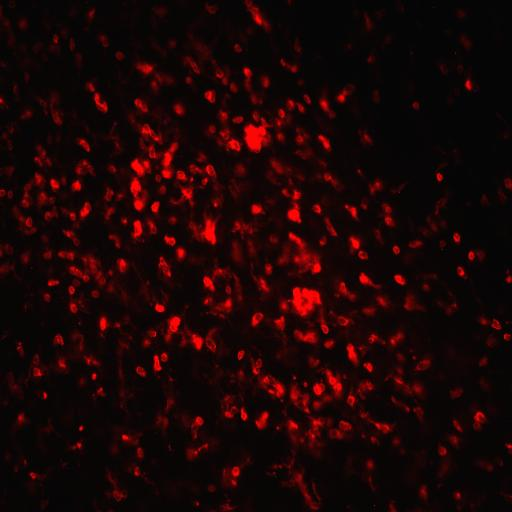microglia: (291, 286, 322, 316), (36, 93, 63, 126), (245, 1, 265, 28), (154, 412, 178, 432), (403, 292, 426, 312), (247, 125, 264, 152), (434, 192, 452, 214), (141, 122, 160, 142), (186, 55, 204, 76), (203, 220, 217, 244), (93, 92, 108, 113), (76, 158, 93, 176), (274, 156, 290, 174), (135, 61, 154, 76), (115, 338, 129, 358), (10, 206, 24, 225), (320, 128, 332, 150), (346, 344, 359, 364), (499, 486, 512, 506), (158, 257, 170, 278), (215, 298, 233, 312), (290, 188, 305, 204), (367, 473, 379, 493), (162, 396, 178, 411), (139, 282, 151, 302), (374, 225, 386, 245), (184, 446, 201, 460), (120, 286, 131, 307), (220, 392, 239, 404), (368, 180, 383, 195), (115, 387, 130, 402), (131, 159, 145, 175), (86, 255, 100, 271), (478, 460, 498, 471), (324, 218, 336, 236), (304, 328, 316, 346), (43, 421, 57, 436), (168, 316, 181, 332), (256, 411, 268, 428), (115, 370, 132, 382), (123, 311, 135, 328), (363, 12, 373, 32), (392, 184, 414, 193), (224, 406, 238, 420), (226, 139, 241, 152), (459, 35, 472, 50), (338, 282, 351, 297), (130, 178, 142, 194), (318, 319, 330, 335), (326, 367, 338, 383), (258, 278, 270, 294), (447, 436, 463, 448), (234, 166, 250, 178), (134, 98, 148, 111), (289, 232, 303, 245), (250, 358, 262, 373), (21, 194, 33, 209), (380, 203, 395, 215), (393, 0, 405, 15), (368, 333, 384, 344), (374, 422, 391, 432), (38, 190, 48, 207), (204, 89, 216, 103), (251, 312, 263, 326), (288, 208, 300, 222), (338, 313, 350, 327), (307, 357, 321, 369), (68, 266, 82, 278), (440, 461, 452, 475), (152, 8, 170, 17), (80, 202, 90, 218), (415, 360, 431, 370), (428, 216, 438, 232), (323, 172, 336, 184), (346, 206, 358, 219), (78, 138, 90, 151), (104, 208, 116, 221), (62, 227, 75, 239), (34, 144, 46, 157), (86, 79, 98, 92), (203, 276, 214, 290), (60, 250, 74, 261), (205, 338, 216, 352), (274, 316, 285, 330), (476, 314, 487, 328), (294, 36, 302, 55), (19, 228, 38, 236), (96, 272, 106, 287), (133, 220, 142, 236), (206, 2, 218, 14), (149, 144, 158, 160), (361, 199, 372, 212), (387, 501, 400, 512), (22, 108, 33, 121), (4, 165, 17, 176), (162, 152, 172, 166), (418, 485, 428, 499), (290, 386, 300, 400), (75, 56, 85, 70), (68, 4, 78, 18), (20, 17, 28, 34), (73, 343, 88, 352), (394, 274, 406, 285), (359, 274, 370, 286), (313, 384, 324, 396), (474, 411, 485, 423), (339, 420, 351, 431), (202, 295, 213, 307), (214, 265, 226, 276), (192, 336, 202, 349), (480, 194, 490, 207), (149, 222, 159, 235), (384, 33, 394, 46), (320, 100, 329, 114), (104, 188, 113, 202), (114, 319, 123, 333), (243, 66, 253, 78), (206, 164, 216, 176), (349, 236, 359, 248), (72, 180, 82, 192), (312, 262, 322, 274), (439, 62, 449, 74), (50, 178, 60, 190), (182, 188, 192, 200), (408, 240, 423, 248), (450, 389, 462, 399), (112, 490, 124, 500), (43, 248, 53, 260), (232, 220, 242, 232), (261, 374, 271, 386), (20, 253, 32, 263), (396, 352, 406, 364), (486, 338, 498, 348), (71, 329, 83, 339), (85, 10, 100, 18), (0, 19, 12, 29), (61, 172, 68, 189), (362, 131, 371, 144), (118, 259, 127, 272), (356, 388, 365, 401), (230, 80, 239, 93), (240, 406, 248, 420), (144, 160, 152, 174), (421, 273, 437, 280), (109, 161, 117, 175), (368, 53, 376, 67), (220, 130, 230, 141), (252, 203, 262, 214), (164, 236, 175, 246), (176, 171, 187, 181), (54, 334, 64, 345), (167, 142, 178, 152), (100, 35, 109, 47), (491, 318, 500, 330), (134, 199, 143, 211), (453, 420, 462, 432), (289, 417, 298, 429), (24, 180, 33, 192), (290, 63, 299, 75), (77, 377, 86, 389), (233, 117, 248, 124), (505, 439, 512, 454), (16, 343, 24, 356), (441, 217, 449, 230), (154, 355, 160, 372), (136, 366, 146, 376), (155, 303, 165, 313), (478, 357, 488, 367), (162, 169, 172, 179), (330, 429, 340, 439), (169, 216, 179, 226), (456, 8, 466, 18), (151, 201, 160, 212), (168, 40, 179, 49), (221, 74, 228, 88), (372, 90, 380, 102), (276, 383, 284, 395), (366, 380, 374, 392), (247, 224, 255, 236), (278, 56, 286, 68), (445, 304, 453, 316), (84, 354, 92, 366), (0, 58, 8, 70), (100, 317, 107, 330), (496, 456, 503, 469), (363, 362, 372, 372), (37, 390, 47, 399), (437, 445, 446, 455), (71, 237, 81, 246), (358, 250, 367, 260), (0, 264, 9, 274), (8, 0, 17, 10), (136, 447, 144, 458), (377, 296, 385, 307), (147, 330, 158, 338), (6, 243, 14, 254), (504, 270, 511, 282), (210, 123, 217, 135), (264, 471, 276, 478), (312, 204, 321, 213), (384, 217, 393, 226), (338, 94, 346, 104), (116, 51, 124, 61), (324, 340, 334, 348), (176, 248, 184, 258), (347, 395, 355, 405), (25, 217, 33, 227), (334, 382, 342, 392), (395, 378, 405, 386), (142, 339, 152, 347), (68, 213, 78, 221), (234, 43, 242, 53), (109, 233, 119, 241), (108, 266, 114, 279), (453, 85, 460, 96), (262, 117, 268, 129), (280, 108, 286, 120), (305, 92, 311, 104), (196, 416, 204, 425), (69, 38, 75, 50), (207, 484, 216, 492), (308, 429, 316, 438), (116, 193, 125, 201), (30, 471, 38, 480), (391, 393, 397, 405), (160, 184, 166, 196), (473, 422, 481, 431), (422, 284, 431, 292), (92, 358, 100, 367), (41, 501, 49, 510), (35, 158, 44, 166), (42, 54, 50, 63), (453, 232, 460, 242), (237, 350, 244, 360), (465, 80, 472, 90), (457, 266, 464, 276), (33, 354, 40, 364), (70, 303, 77, 313), (18, 412, 25, 422), (161, 352, 168, 362), (232, 466, 239, 476), (202, 175, 209, 185), (36, 174, 43, 184), (185, 75, 192, 85), (48, 280, 59, 286), (312, 420, 323, 426), (238, 369, 244, 380), (466, 198, 472, 209), (446, 97, 452, 108), (272, 464, 283, 470), (216, 70, 224, 78), (33, 368, 41, 376), (392, 246, 400, 254), (58, 360, 66, 368), (414, 385, 422, 393), (393, 438, 401, 446), (224, 286, 232, 294), (268, 388, 276, 396), (24, 73, 32, 81), (60, 30, 68, 38), (5, 142, 13, 150), (252, 114, 259, 123), (265, 264, 272, 273), (467, 251, 474, 260), (97, 387, 104, 396), (296, 331, 303, 340), (225, 504, 234, 511), (83, 274, 90, 283), (42, 234, 49, 243), (155, 174, 162, 183), (507, 178, 512, 190), (134, 466, 140, 476), (115, 239, 121, 249), (452, 300, 458, 310), (92, 290, 99, 298), (44, 294, 51, 302), (195, 167, 202, 175), (213, 200, 220, 208), (313, 400, 320, 408), (231, 477, 238, 485), (45, 214, 53, 221), (456, 62, 463, 70), (194, 499, 201, 507), (264, 79, 270, 88), (397, 332, 402, 342), (303, 396, 308, 406), (412, 102, 419, 109), (299, 438, 306, 445), (221, 111, 227, 119), (176, 105, 182, 113), (436, 173, 442, 181), (69, 286, 75, 294), (0, 189, 6, 197), (439, 240, 445, 248), (503, 334, 511, 340), (454, 491, 460, 499), (390, 337, 396, 345), (413, 408, 421, 414), (305, 406, 311, 414), (46, 158, 52, 166), (14, 85, 20, 93), (282, 480, 288, 488), (53, 34, 58, 43), (59, 462, 68, 467), (304, 493, 310, 500), (2, 133, 9, 139), (111, 446, 118, 452), (92, 372, 97, 380), (365, 308, 373, 313), (372, 436, 377, 444), (299, 104, 303, 113), (122, 434, 128, 440), (76, 442, 82, 448), (367, 462, 373, 468), (296, 476, 302, 482), (292, 374, 298, 380), (302, 382, 308, 388), (14, 466, 20, 472), (9, 128, 15, 134), (289, 99, 294, 106), (298, 136, 303, 143), (122, 218, 127, 225), (34, 45, 39, 52), (277, 120, 282, 126), (190, 176, 194, 183), (406, 405, 410, 412), (24, 304, 28, 311), (0, 98, 4, 105), (189, 163, 194, 168), (277, 135, 283, 139), (79, 425, 83, 431), (361, 413, 367, 417), (78, 321, 84, 325), (343, 90, 347, 95), (313, 426, 318, 430), (358, 170, 362, 174), (276, 426, 279, 431), (288, 464, 291, 467)
